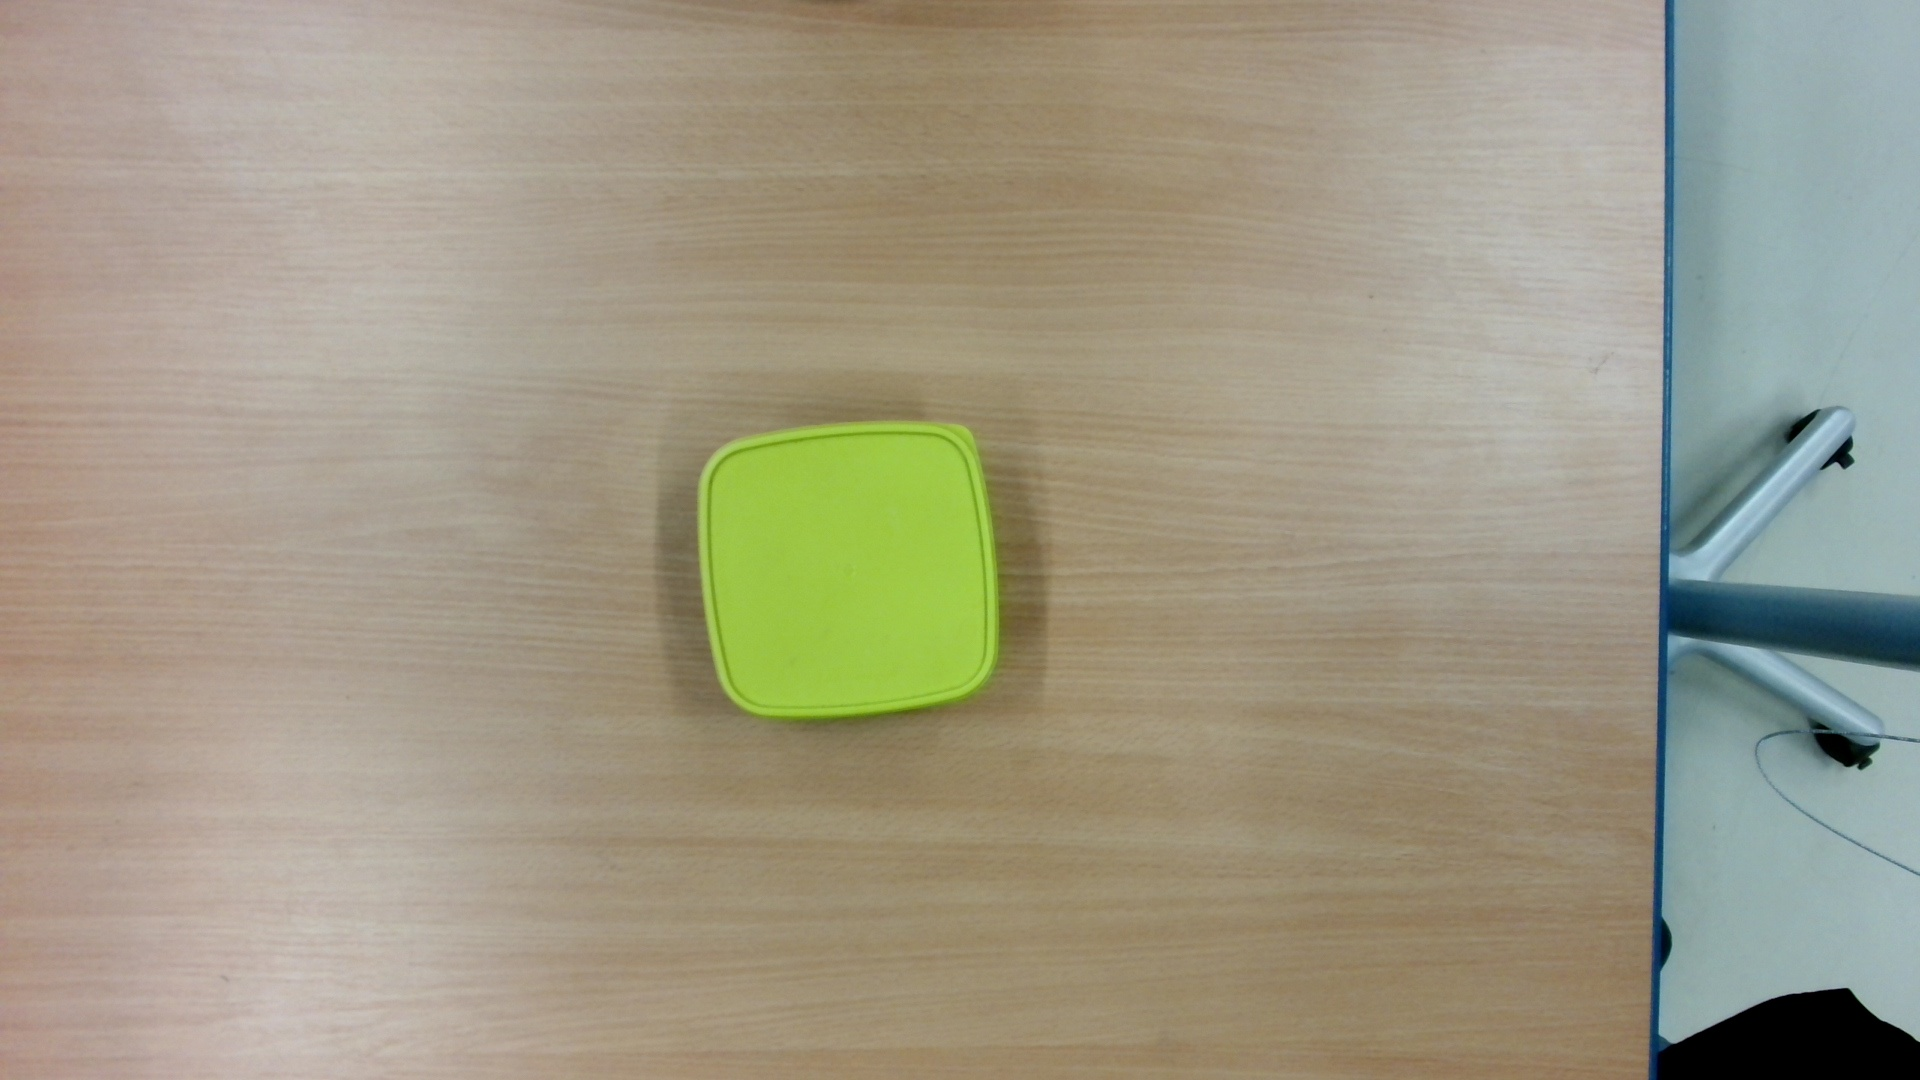Box: (686, 415, 1007, 731)
